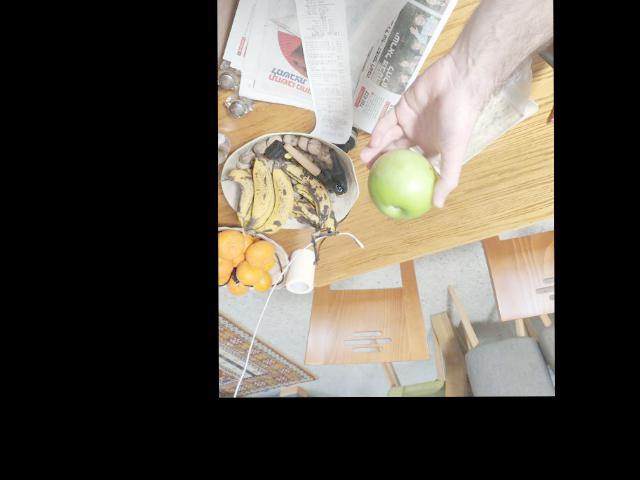apple: (375, 152, 438, 218)
